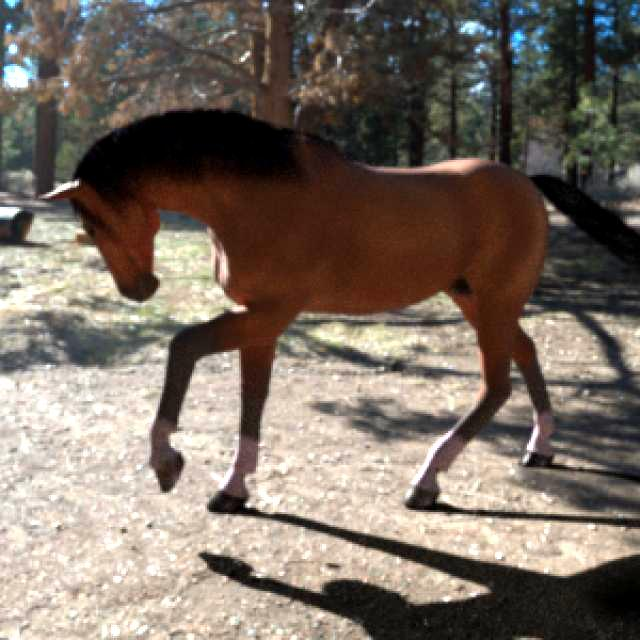horse: (45, 112, 640, 512)
